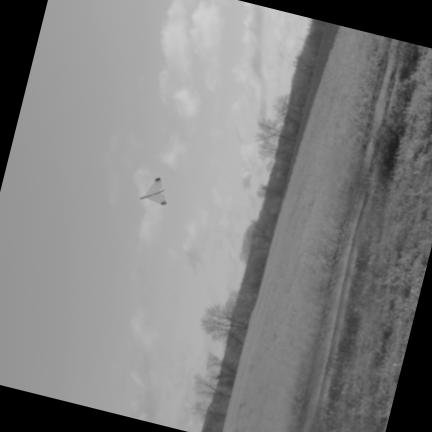Shahed: (139, 176, 164, 203)
